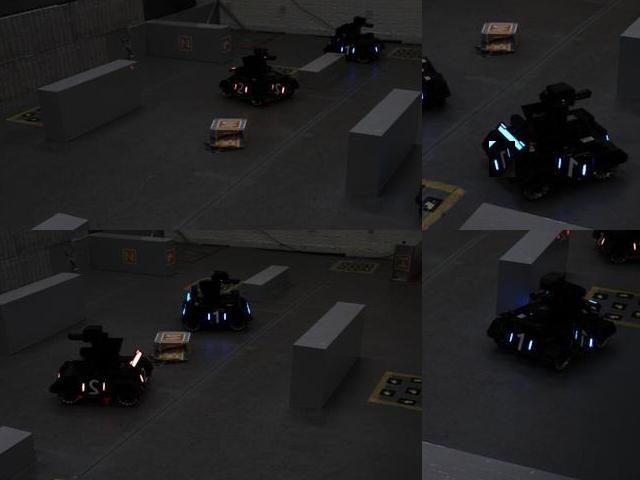armor: (500, 328, 536, 356), (490, 141, 517, 178), (556, 156, 594, 181), (77, 375, 110, 399), (572, 329, 599, 354), (204, 307, 234, 326), (230, 78, 250, 99), (336, 43, 358, 59), (270, 80, 290, 97), (627, 237, 639, 257)
